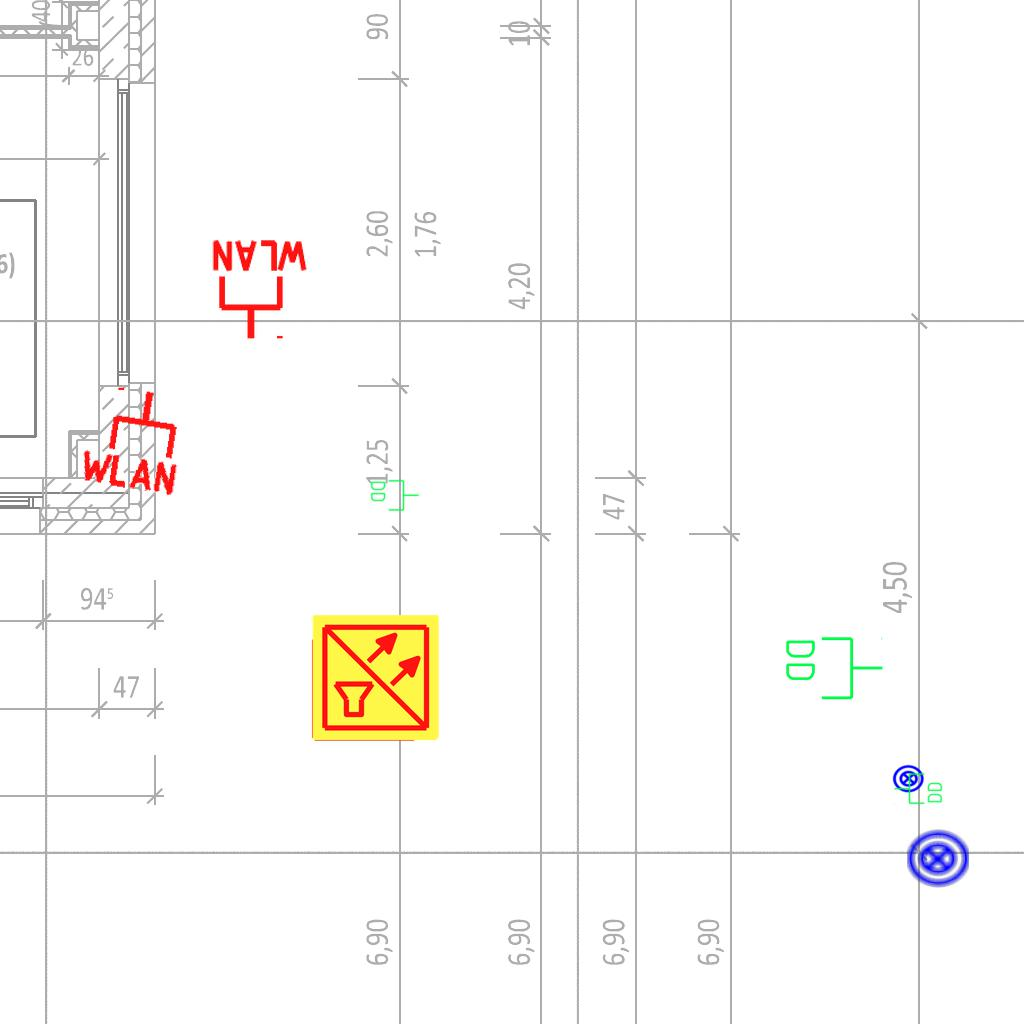Datenanschluss_zweifach: (782, 633, 885, 702), (369, 478, 420, 512), (893, 772, 944, 806)
OKW_Multisensormelder_(Kombination_optischer_Rauch-Kahlenmonoxid_Waerme-Melder): (310, 612, 442, 744)
Taster_beleuchtet: (905, 826, 971, 892), (892, 762, 925, 795)
WLAN: (73, 378, 194, 498), (208, 238, 312, 343)
